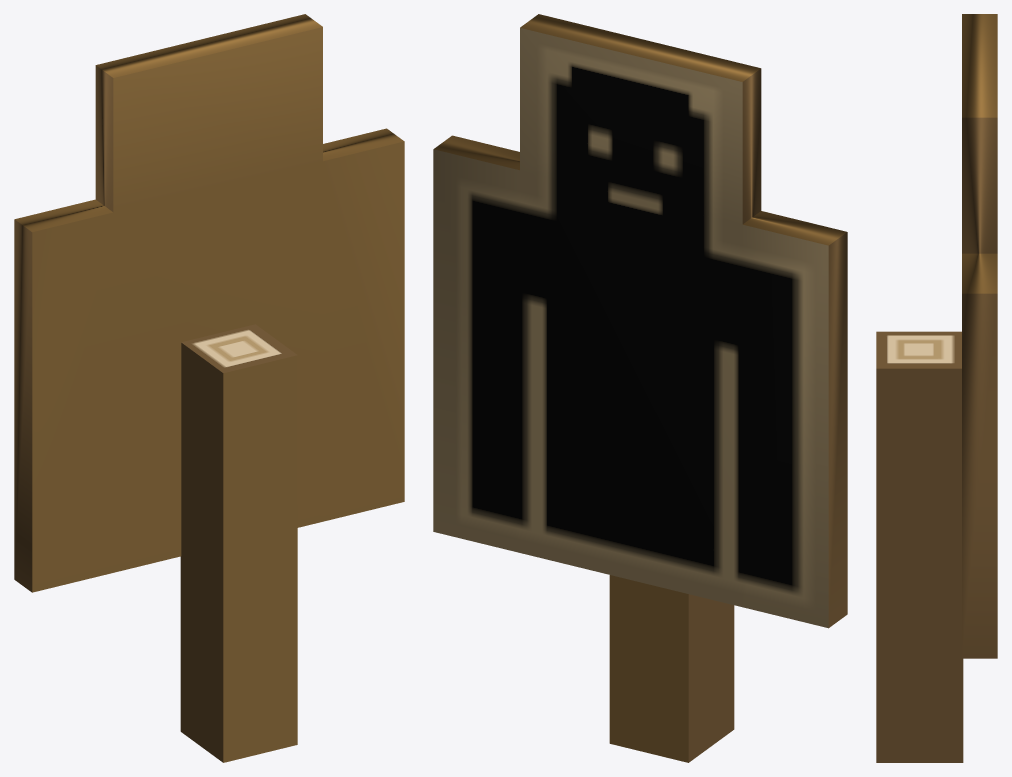
The model's file is SM_Prop_Target_02.fbx.
3 views of the same model, side by side, from view 1: azimuth 30°, elevation 25°; view 2: azimuth 150°, elevation 25°; view 3: azimuth 270°, elevation 25° (orthographic). The views are drawn at different scales.
Parts seen in each view (by area): view 1: SM_Prop_Target_02; view 2: SM_Prop_Target_02; view 3: SM_Prop_Target_02.
Boxes of the visible parts, box(x1,y1,x2,y2) form: SM_Prop_Target_02: box(14, 14, 404, 762); SM_Prop_Target_02: box(433, 14, 847, 762); SM_Prop_Target_02: box(876, 14, 997, 762).
Size of the model in its own units: 1.43 by 2.46 by 0.3988.
